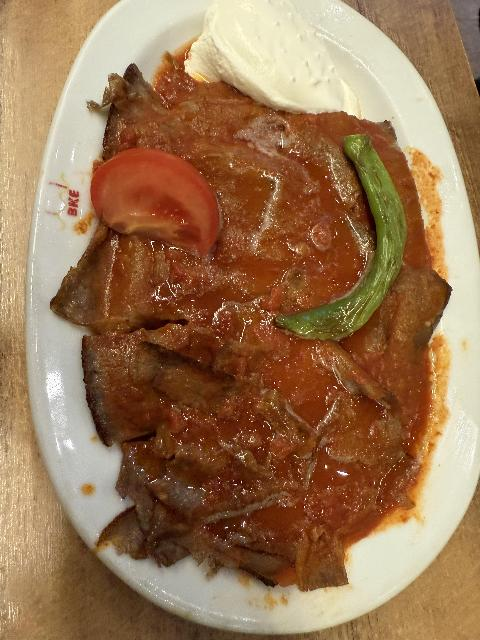Organik: (71, 270, 279, 519), (297, 141, 402, 348), (195, 24, 335, 105), (89, 156, 210, 243)
